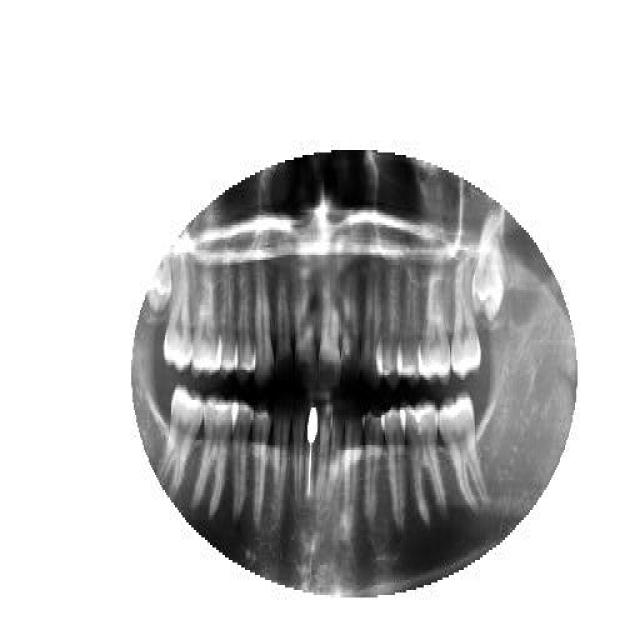Impacted Tooth: (470, 208, 505, 332)
Implant: (304, 400, 320, 508)
